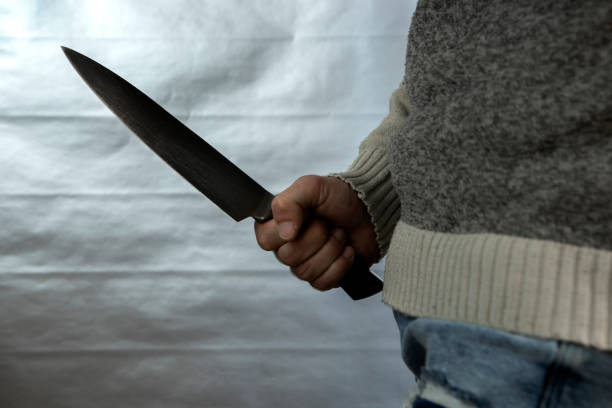knife: (35, 36, 398, 318)
